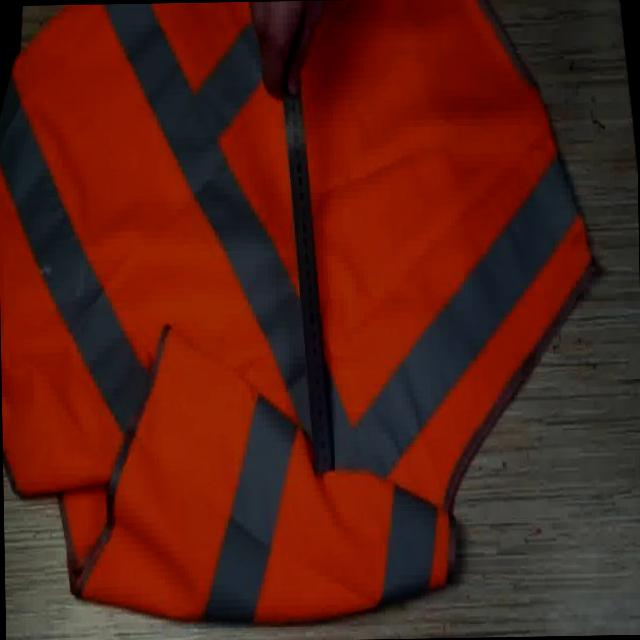vest: (0, 0, 606, 631)
